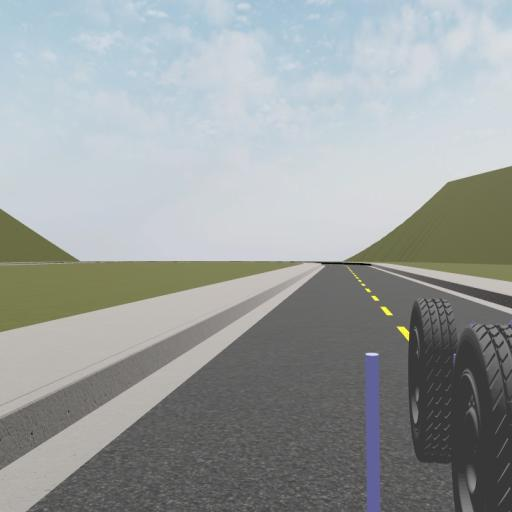ERP-42: (409, 298, 512, 512)
